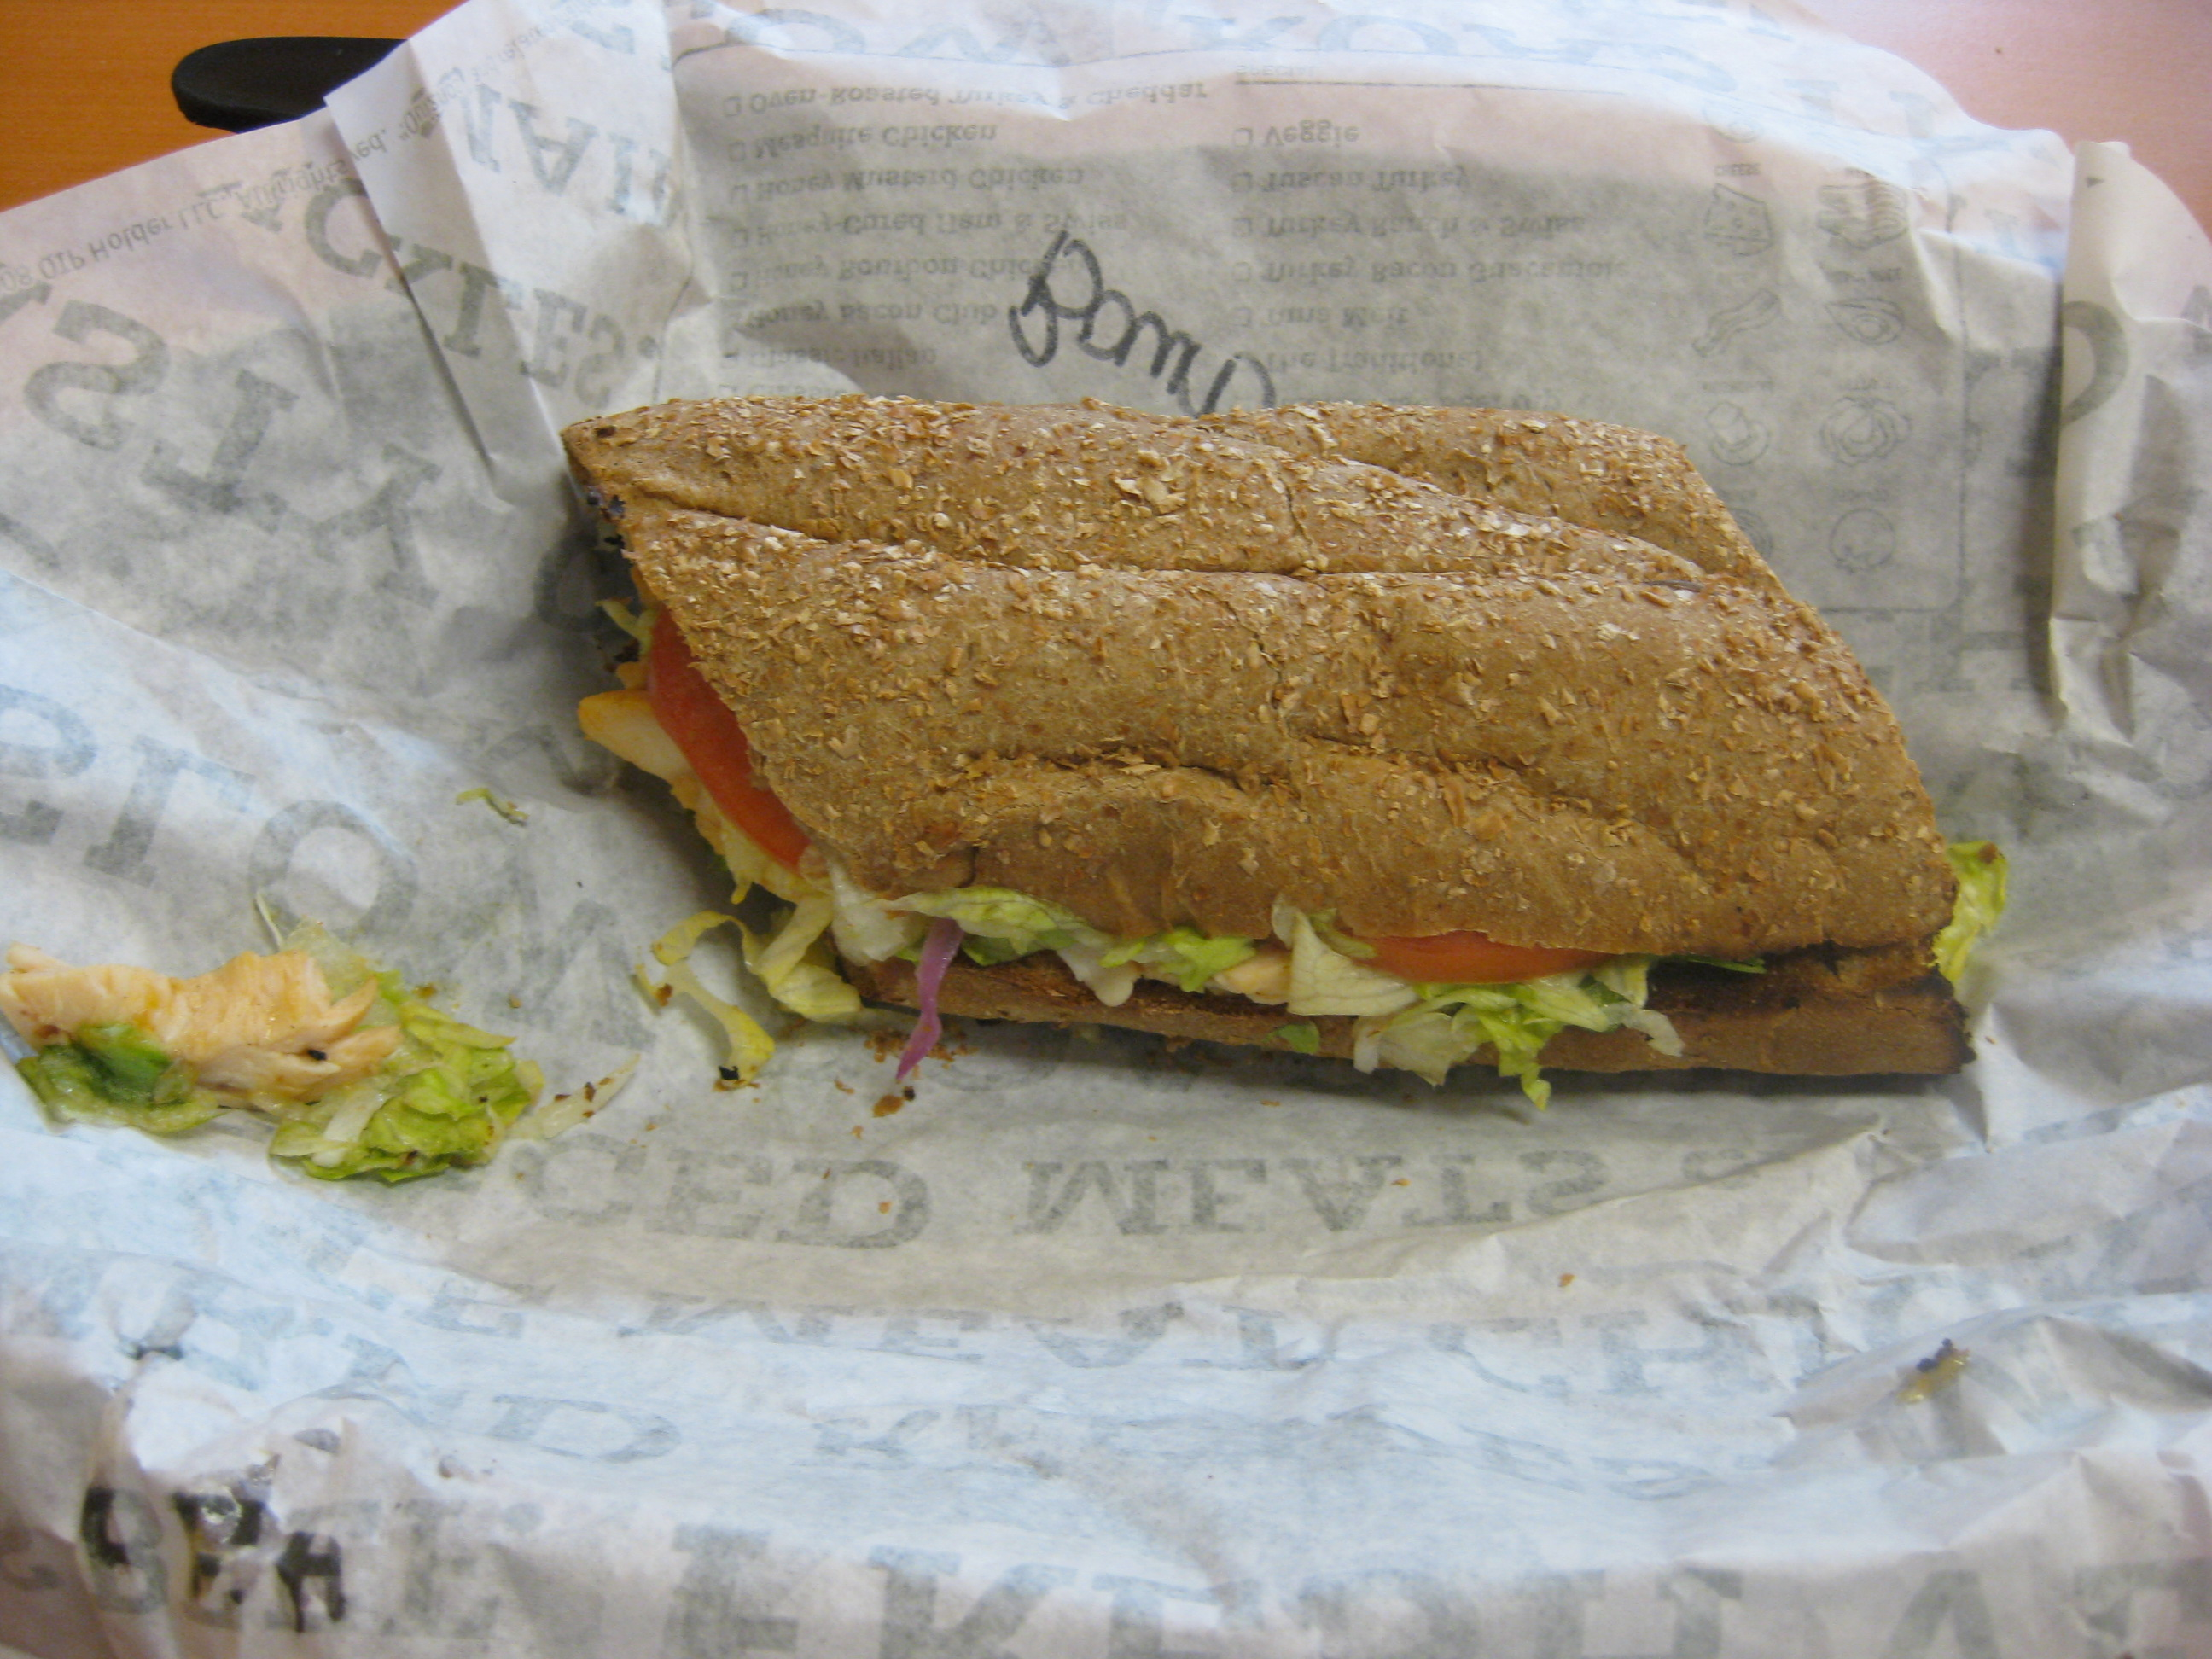sub: (528, 341, 2054, 1143)
